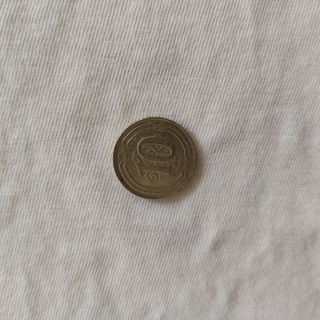10KURUS: (111, 115, 199, 200)
